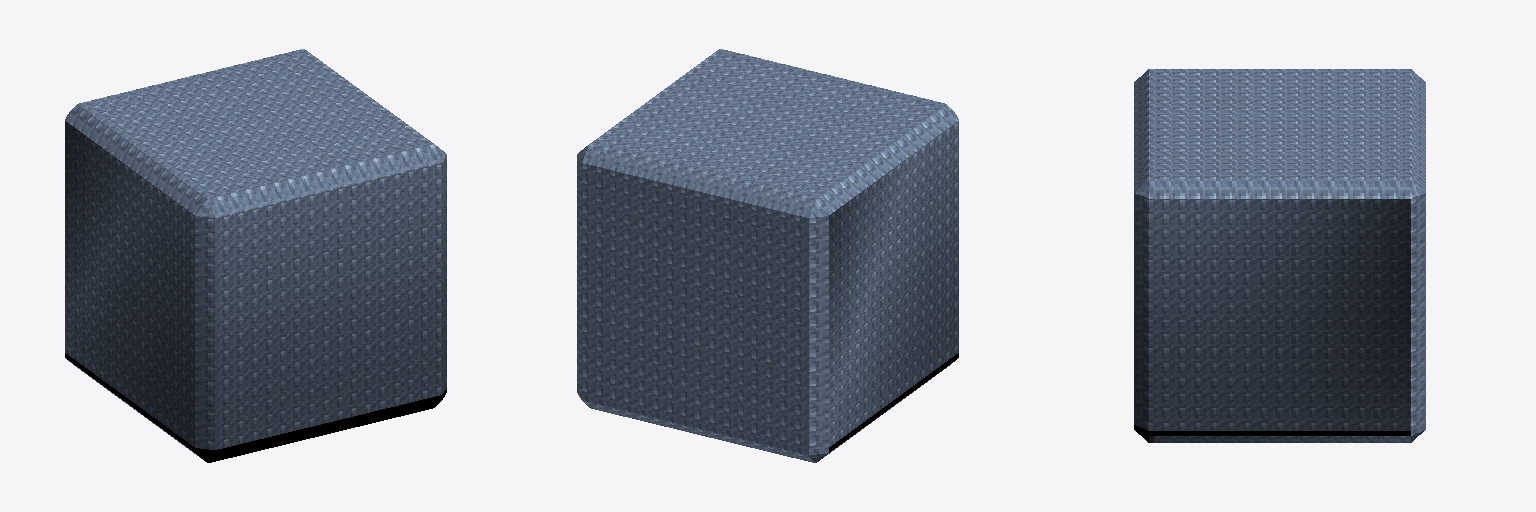
The picture shows the model from 3 angles: view 1: azimuth 30°, elevation 25°; view 2: azimuth 150°, elevation 25°; view 3: azimuth 270°, elevation 25°; orthographic projection.
Parts seen in each view (by area): view 1: default; view 2: default; view 3: default.
Part boxes in pixels (bbox=[...]): default: bbox=[65, 49, 446, 462]; default: bbox=[577, 49, 958, 462]; default: bbox=[1134, 69, 1425, 442].
Size of the model in its own units: 1 by 1 by 1.
1 materials, 1 textured.